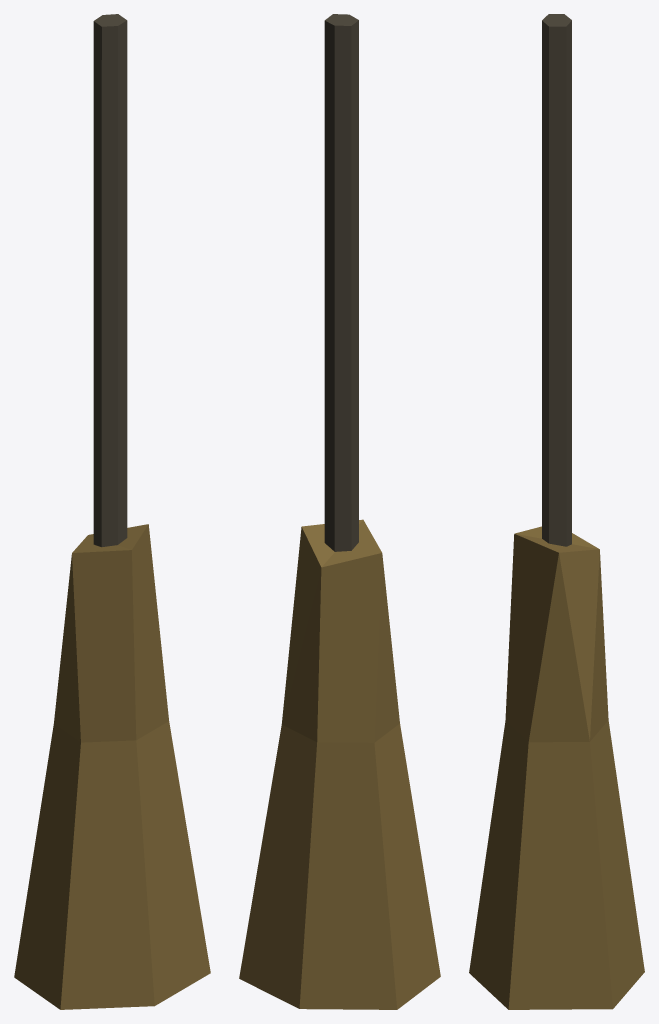
File: EA03_Items_House_Besom_01a.glb
3 renders of one model, left to right at view 1: azimuth 30°, elevation 25°; view 2: azimuth 150°, elevation 25°; view 3: azimuth 270°, elevation 25°, orthographic.
Parts seen in each view (by area): view 1: EA03_Items_House_Besom_01a; view 2: EA03_Items_House_Besom_01a; view 3: EA03_Items_House_Besom_01a.
Part boxes in pixels (left/top/right/bottom): EA03_Items_House_Besom_01a: left=14, top=14, right=210, bottom=1009; EA03_Items_House_Besom_01a: left=239, top=14, right=440, bottom=1009; EA03_Items_House_Besom_01a: left=469, top=14, right=644, bottom=1009.
Size of the model in its own units: 0.2622 by 1.57 by 0.2633.
1 material, 1 textured.
